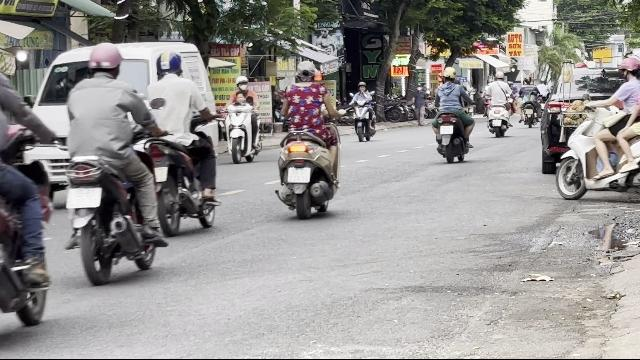helmet: (86, 42, 122, 78), (154, 51, 182, 79), (618, 56, 638, 80), (235, 76, 249, 90)
licenseplate: (67, 188, 101, 209), (288, 168, 310, 182)
motorcyclist: (48, 41, 162, 283), (142, 49, 222, 235), (553, 52, 639, 206), (271, 60, 343, 219), (223, 75, 264, 163)
nohelmet: (294, 60, 318, 84)
